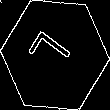L_SE: (29, 28, 81, 82)
